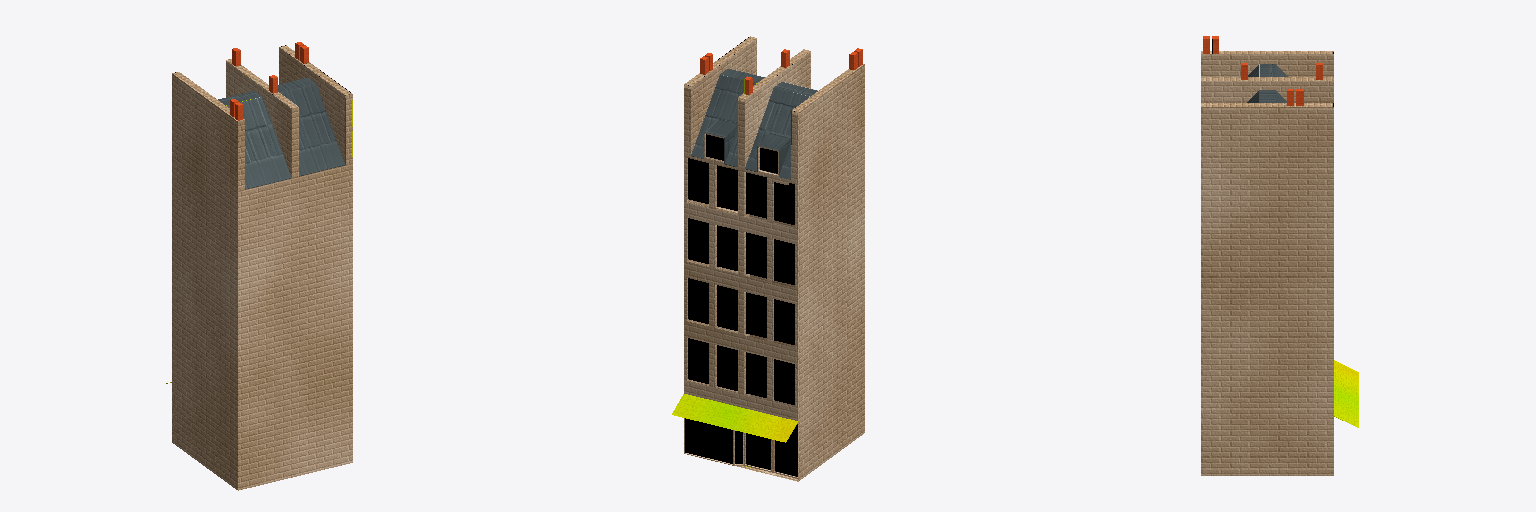
3 renders of one model, left to right at view 1: azimuth 30°, elevation 25°; view 2: azimuth 150°, elevation 25°; view 3: azimuth 270°, elevation 25°, orthographic.
Visible parts, largest first — view 1: Cube1; view 2: Cube1; view 3: Cube1.
Part boxes in pixels (bbox=[...]): Cube1: bbox=[166, 42, 352, 490]; Cube1: bbox=[672, 36, 864, 481]; Cube1: bbox=[1201, 36, 1358, 475].
Bounding box in the file's own units: 8 × 25.63 × 9.5.
1 materials, 1 textured.